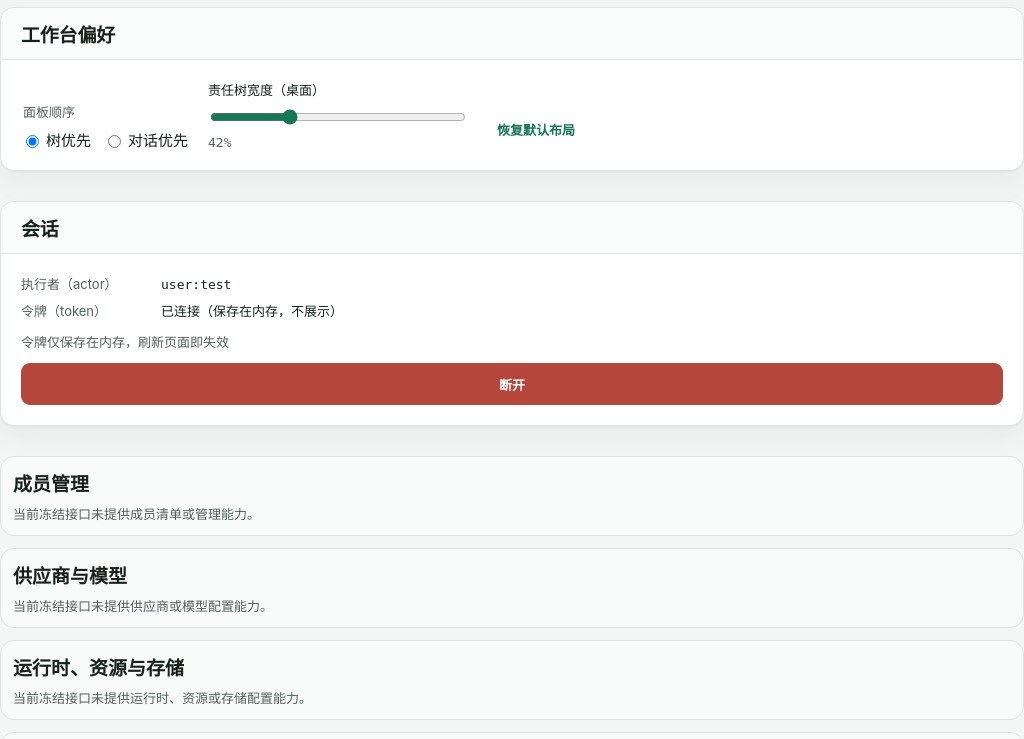
Test: W-07 SettingsPage (frozen §2.10) › 三块标题呈现；会话块 actor 展示 + 断开回登录态（真实 SessionProvider）
(page scrolled)
Expected: the heading "会话" is shown, [21,214,59,241]
Expected: the text "令牌仅保存在内存，刷新页面即失效" is shown, [21,334,229,350]
Click the button "断开": (512, 384) [21,363,1003,405]
(page scrolled)
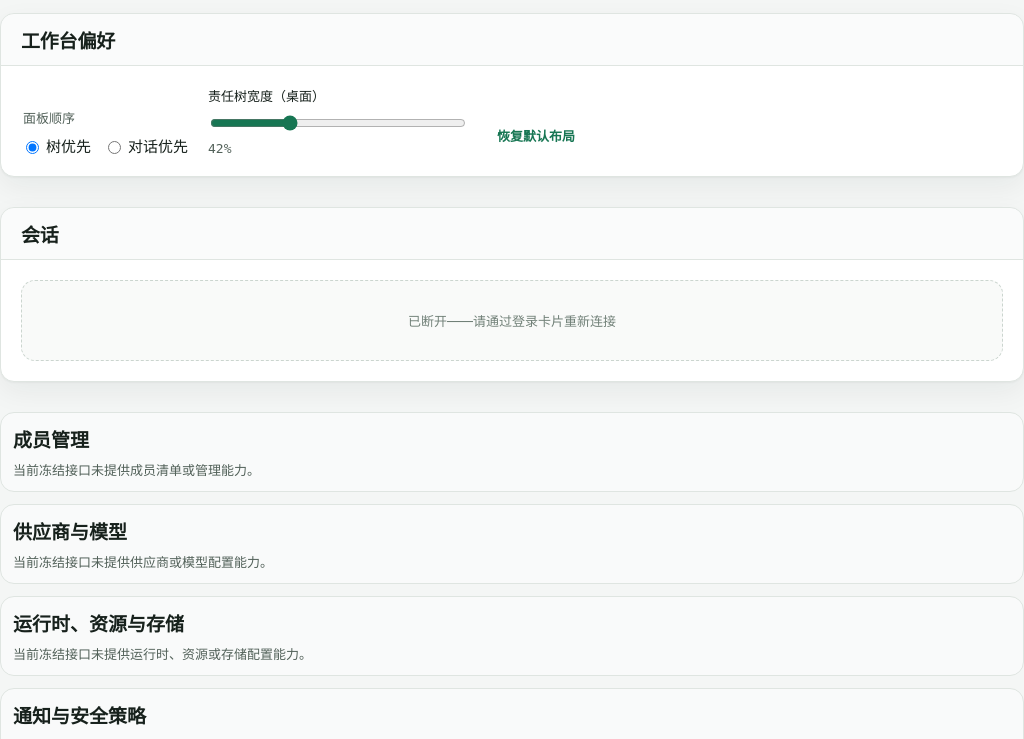
Result: the text "已断开——请通过登录卡片重新连接" is shown at [408,311,616,330]
